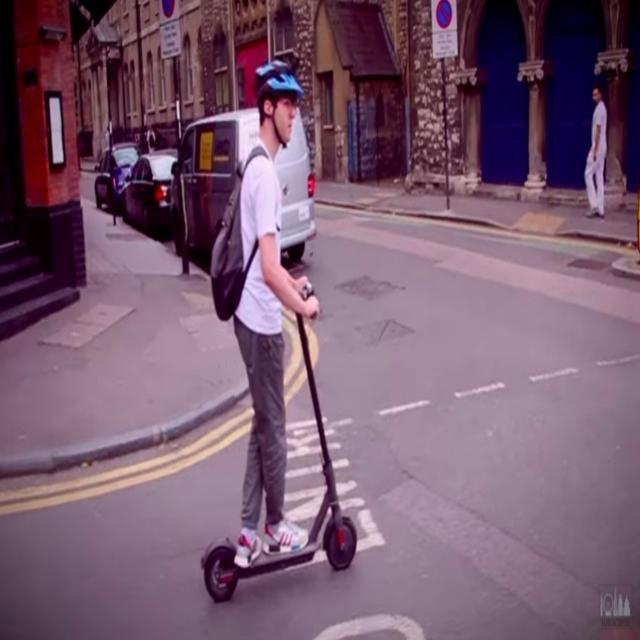Helmet: (239, 53, 311, 155)
